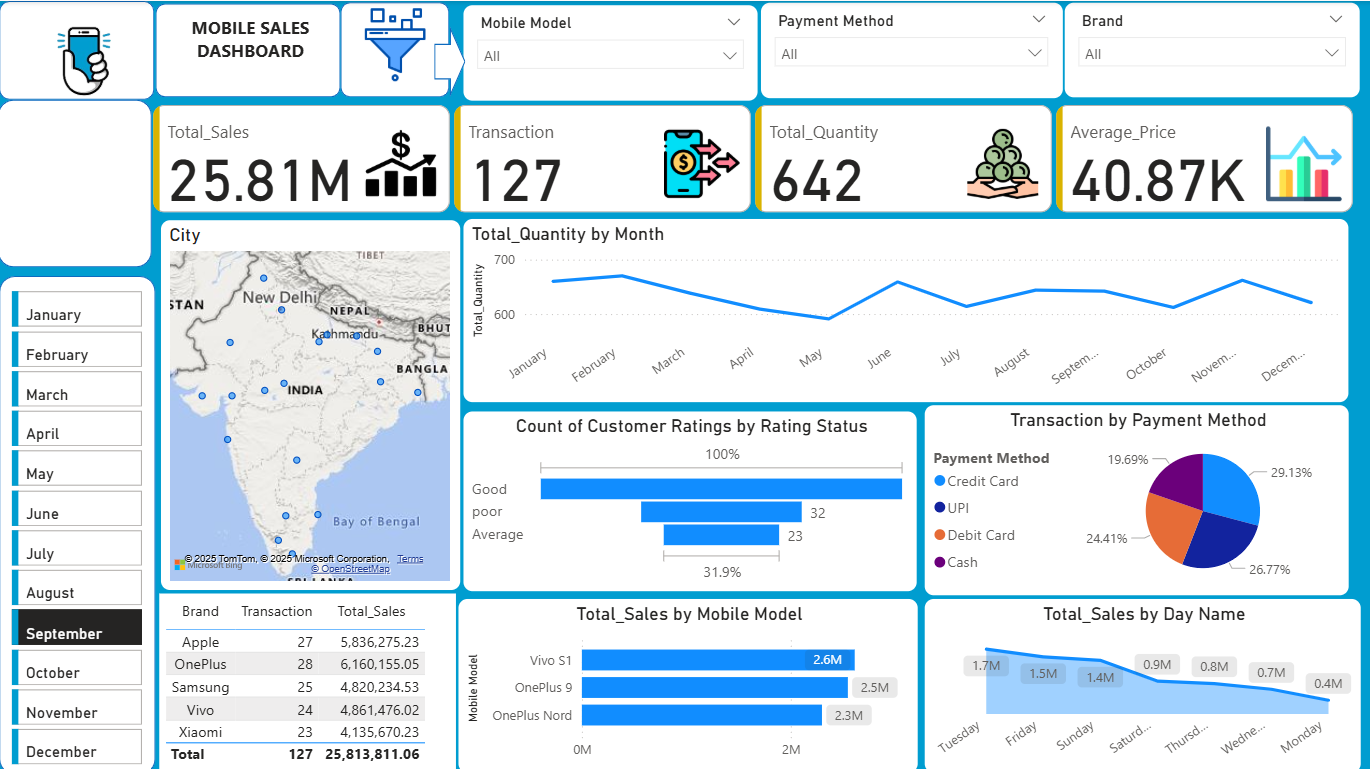

What the dashboard file says about the page in this screenshot:
{"tool":"powerbi","page":{"name":"DashBoard","canvas":[1280,720],"ordinal":0},"visuals":[{"type":"shape","box":[1.2,0,144.2,91.9],"z":0},{"type":"image","box":[15.1,9.3,130.2,93],"z":1000},{"type":"shape","box":[0,91.9,143,155.8],"z":2000},{"type":"shape","box":[1.2,255.8,145.3,464],"z":3000},{"type":"advancedSlicerVisual","fields":{"Values":["Custom_Calendar.Date.Variation.Date Hierarchy.Month"]},"box":[8.1,265.1,131.4,454.7],"z":4000},{"type":"cardVisual","fields":{"Data":["Sales_Data.Total_Sales","Sales_Data.Transaction","Sales_Data.Total_Quantity","Sales_Data.Average_Price"]},"box":[139.5,91.9,1129.1,110.5],"z":5000},{"type":"slicer","fields":{"Values":["Sales_Data.Mobile Model"]},"box":[431.4,2.3,276.7,91.9],"z":6000},{"type":"slicer","fields":{"Values":["Sales_Data.Payment Method"]},"box":[708.1,0,283.7,91.9],"z":7000},{"type":"slicer","fields":{"Values":["Sales_Data.Brand"]},"box":[991.2,0,277.5,91.2],"z":8000},{"type":"shape","box":[318.6,1.2,101.2,88.4],"z":9000},{"type":"image","box":[318.6,1.2,101.2,79.1],"z":10000},{"type":"shape","box":[405.8,23.3,29.1,66.3],"z":11000},{"type":"shape","box":[146.5,2.3,172.1,87.2],"z":12000},{"type":"textbox","box":[159.3,8.1,151.2,72.1],"z":13000},{"type":"map","fields":{"Category":["Sales_Data.City"]},"box":[150,202.5,281.2,347.5],"z":14000},{"type":"lineChart","fields":{"Category":["Custom_Calendar.Date.Variation.Date Hierarchy.Month"],"Y":["Sales_Data.Total_Quantity"]},"box":[431.2,201.2,826.2,173.8],"z":15000},{"type":"pieChart","title":"Transaction by Payment Method ","fields":{"Category":["Sales_Data.Payment Method"],"Y":["Sales_Data.Transaction"]},"box":[860,375,397.5,180],"z":16000},{"type":"clusteredBarChart","fields":{"Y":["Sales_Data.Total_Sales"],"Category":["Sales_Data.Mobile Model"]},"box":[426.2,555,430,165],"z":17000},{"type":"funnel","fields":{"Category":["Sales_Data.Rating Status"],"Y":["CountNonNull(Sales_Data.Customer Ratings)"]},"box":[431.2,380,425,170],"z":18000},{"type":"areaChart","fields":{"Y":["Sales_Data.Total_Sales"],"Category":["Custom_Calendar.Day Name"]},"box":[860,555,408.8,165],"z":19000},{"type":"tableEx","fields":{"Values":["Sales_Data.Brand","Sales_Data.Transaction","Sales_Data.Total_Sales"]},"box":[150,551,276,169],"z":20000}]}

Visuals, with their boxes in screenshot pixels (x1, y1, x2, y2), scaled from the page's 1280x720 canvas onto the 1370x769 screenshot:
shape: 1, 0, 156, 98
image: 16, 10, 156, 109
shape: 0, 98, 153, 265
shape: 1, 273, 157, 768
advancedSlicerVisual - Custom_Calendar.Date.Variation.Date Hierarchy.Month: 9, 283, 149, 768
cardVisual - Sales_Data.Total_Sales x Sales_Data.Transaction: 149, 98, 1358, 216
slicer - Sales_Data.Mobile Model: 462, 2, 758, 101
slicer - Sales_Data.Payment Method: 758, 0, 1062, 98
slicer - Sales_Data.Brand: 1061, 0, 1358, 97
shape: 341, 1, 449, 96
image: 341, 1, 449, 86
shape: 434, 25, 465, 96
shape: 157, 2, 341, 96
textbox: 171, 9, 332, 86
map - Sales_Data.City: 161, 216, 462, 587
lineChart - Custom_Calendar.Date.Variation.Date Hierarchy.Month x Sales_Data.Total_Quantity: 462, 215, 1346, 401
"Transaction by Payment Method " pieChart: 920, 401, 1346, 593
clusteredBarChart - Sales_Data.Total_Sales x Sales_Data.Mobile Model: 456, 593, 916, 768
funnel - Sales_Data.Rating Status x CountNonNull(Sales_Data.Customer Ratings): 462, 406, 916, 587
areaChart - Sales_Data.Total_Sales x Custom_Calendar.Day Name: 920, 593, 1358, 768
tableEx - Sales_Data.Brand x Sales_Data.Transaction: 161, 588, 456, 768
